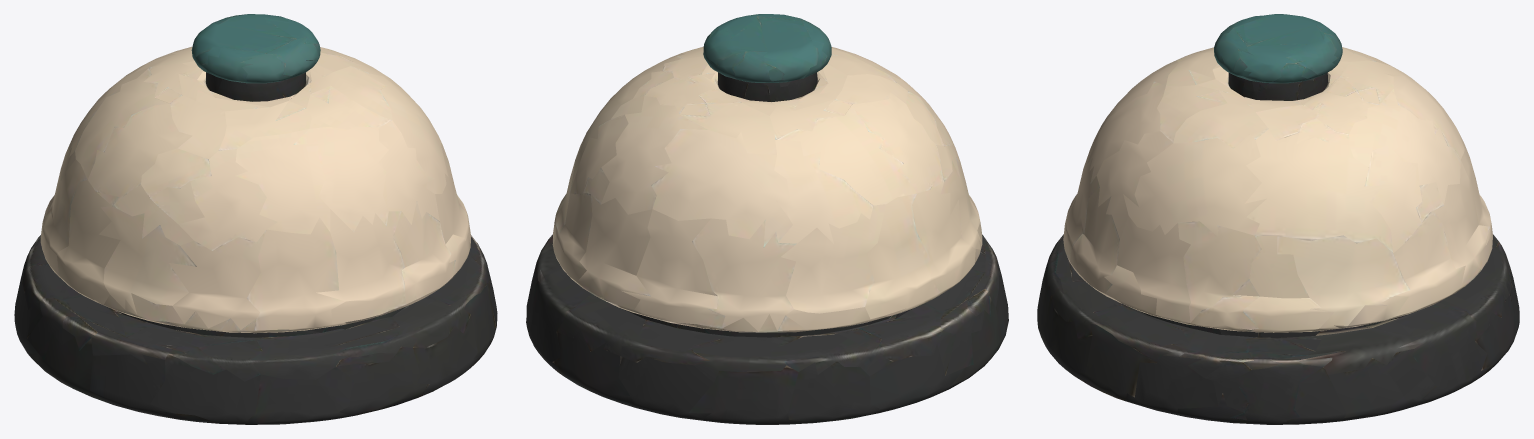
Rendered from serviceBellPressed.glb.
3 renders of one model, left to right at view 1: azimuth 30°, elevation 25°; view 2: azimuth 150°, elevation 25°; view 3: azimuth 270°, elevation 25°, orthographic.
Parts seen in each view (by area): view 1: Mesh_0; view 2: Mesh_0; view 3: Mesh_0.
Boxes of the visible parts, x1=… form: Mesh_0: x1=14, y1=14, x2=497, y2=424; Mesh_0: x1=526, y1=14, x2=1008, y2=424; Mesh_0: x1=1037, y1=14, x2=1519, y2=424.
Size of the model in its own units: 0.1 by 0.0668 by 0.1.
Materials: 1 (1 with a texture image).
